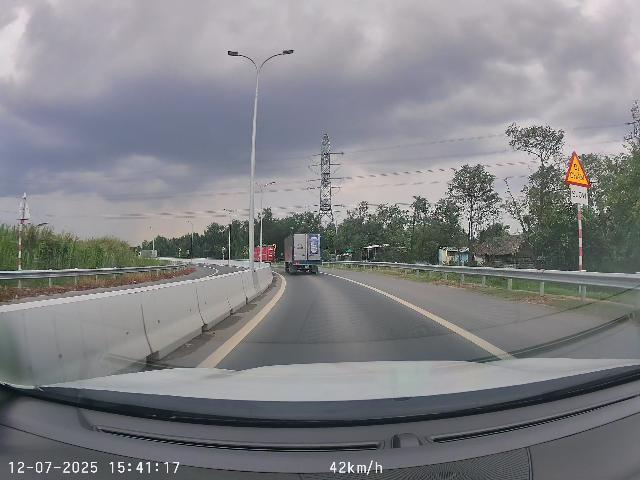245-di-cham: (564, 150, 591, 187)
